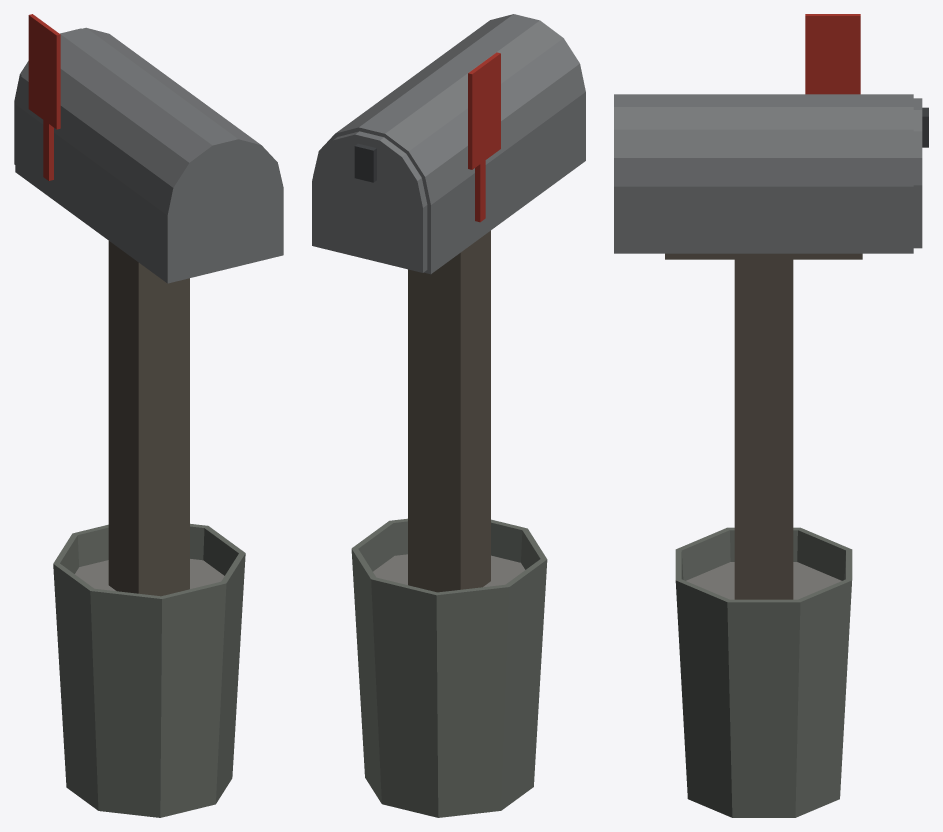
File: mailbox-bucket.glb
3 views of the same model, side by side, from view 1: azimuth 30°, elevation 25°; view 2: azimuth 150°, elevation 25°; view 3: azimuth 270°, elevation 25° (orthographic). The views are drawn at different scales.
Visible parts, largest first — view 1: MailboxBucket, Flag; view 2: MailboxBucket, Flag; view 3: MailboxBucket, Flag.
Boxes of the visible parts, x1=… form: MailboxBucket: x1=14, y1=27, x2=283, y2=817; Flag: x1=28, y1=14, x2=60, y2=180; MailboxBucket: x1=312, y1=14, x2=585, y2=817; Flag: x1=468, y1=52, x2=500, y2=222; MailboxBucket: x1=614, y1=94, x2=928, y2=817; Flag: x1=805, y1=14, x2=860, y2=94.
Size of the model in its own units: 0.2679 by 1.24 by 0.478.
